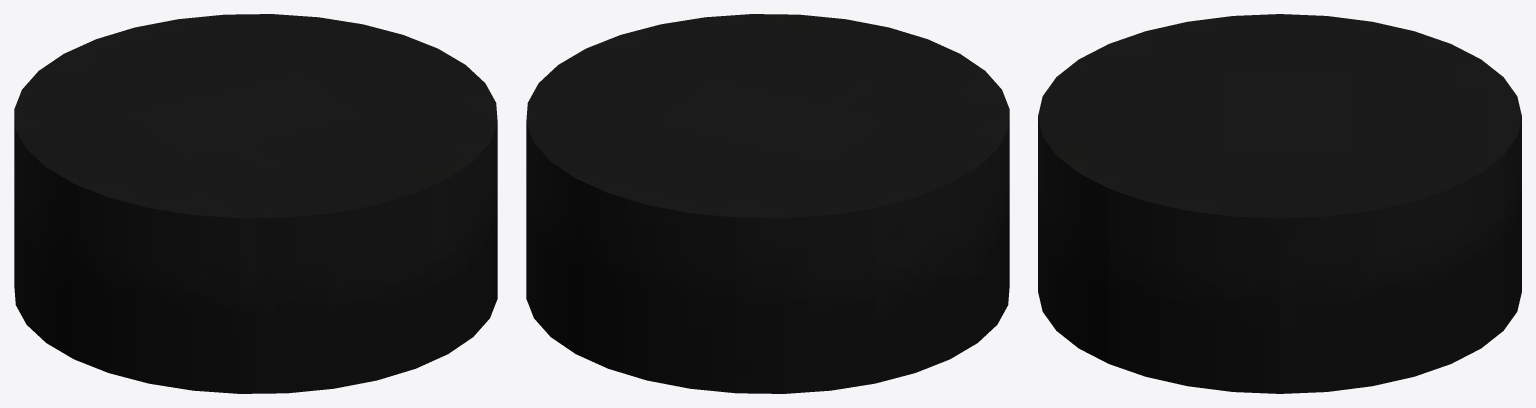
File: selector_knob__knob_collar.glb
3 views of the same model, side by side, from view 1: azimuth 30°, elevation 25°; view 2: azimuth 150°, elevation 25°; view 3: azimuth 270°, elevation 25° (orthographic).
Parts seen in each view (by area): view 1: world; view 2: world; view 3: world.
Part boxes in pixels (<box>): world: <box>14,14,497,393</box>; world: <box>526,14,1009,393</box>; world: <box>1038,14,1521,393</box>.
Size of the model in its own units: 0.02 by 0.008 by 0.02.
1 material, 1 textured.
